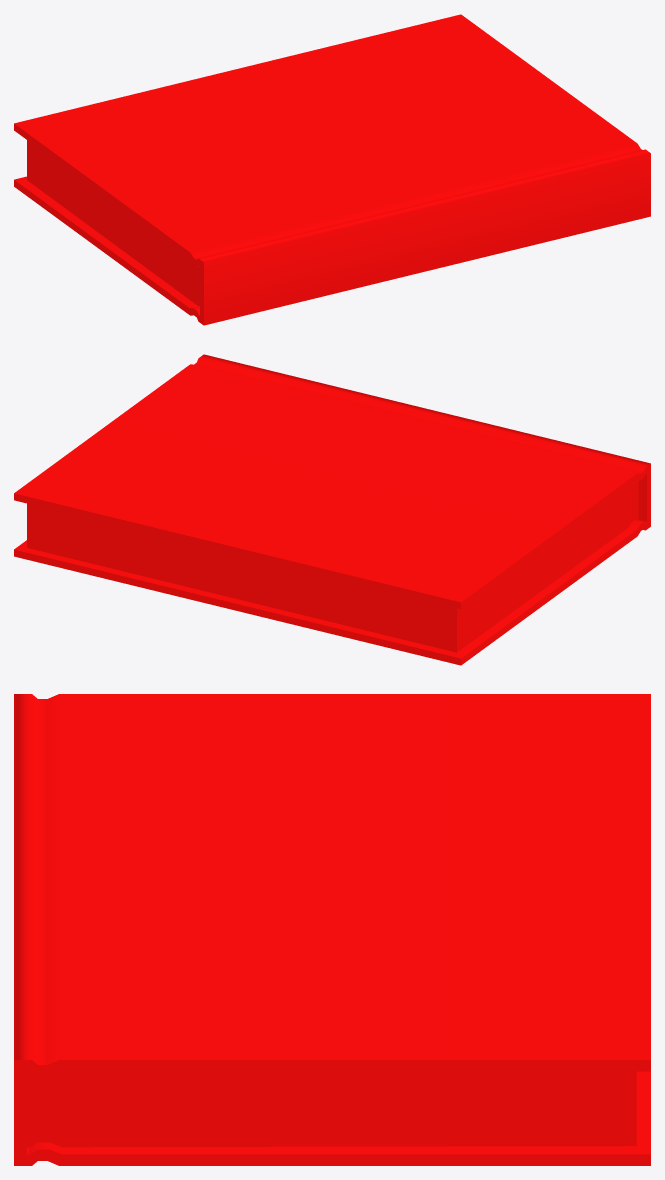
The model's file is SM_Book.glb.
The picture shows the model from 3 angles, top to bottom: view 1: azimuth 30°, elevation 25°; view 2: azimuth 150°, elevation 25°; view 3: azimuth 270°, elevation 25°; orthographic projection. The views are drawn at different scales.
Parts seen in each view (by area): view 1: SM_Book_LOD0; view 2: SM_Book_LOD0; view 3: SM_Book_LOD0.
Part boxes in pixels (left/top/right/bottom): SM_Book_LOD0: left=14, top=14, right=650, bottom=325; SM_Book_LOD0: left=14, top=354, right=650, bottom=665; SM_Book_LOD0: left=14, top=694, right=650, bottom=1165.
Size of what is drawn, in the model's own units: 0.3144 by 0.0425 by 0.2313.
Materials: 1 (1 with a texture image).
